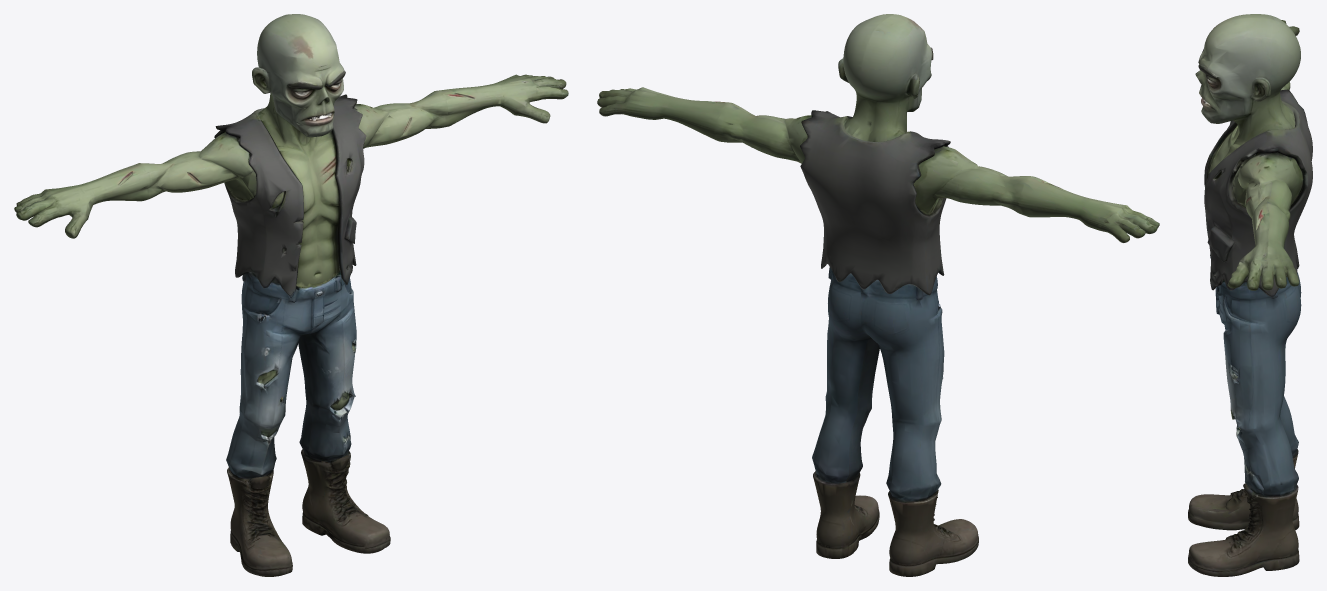
Rendered from zombie_rigged.glb.
The picture shows the model from 3 angles, left to right: view 1: azimuth 30°, elevation 25°; view 2: azimuth 150°, elevation 25°; view 3: azimuth 270°, elevation 25°; orthographic projection.
Parts seen in each view (by area): view 1: node_0; view 2: node_0; view 3: node_0.
Boxes of the visible parts, box(x1,y1,x2,y2) form: node_0: box(14, 14, 568, 576); node_0: box(597, 14, 1159, 576); node_0: box(1188, 14, 1312, 576).
Size of the model in its own units: 1.09 by 1 by 0.2148.
Materials: 1 (1 with a texture image).
